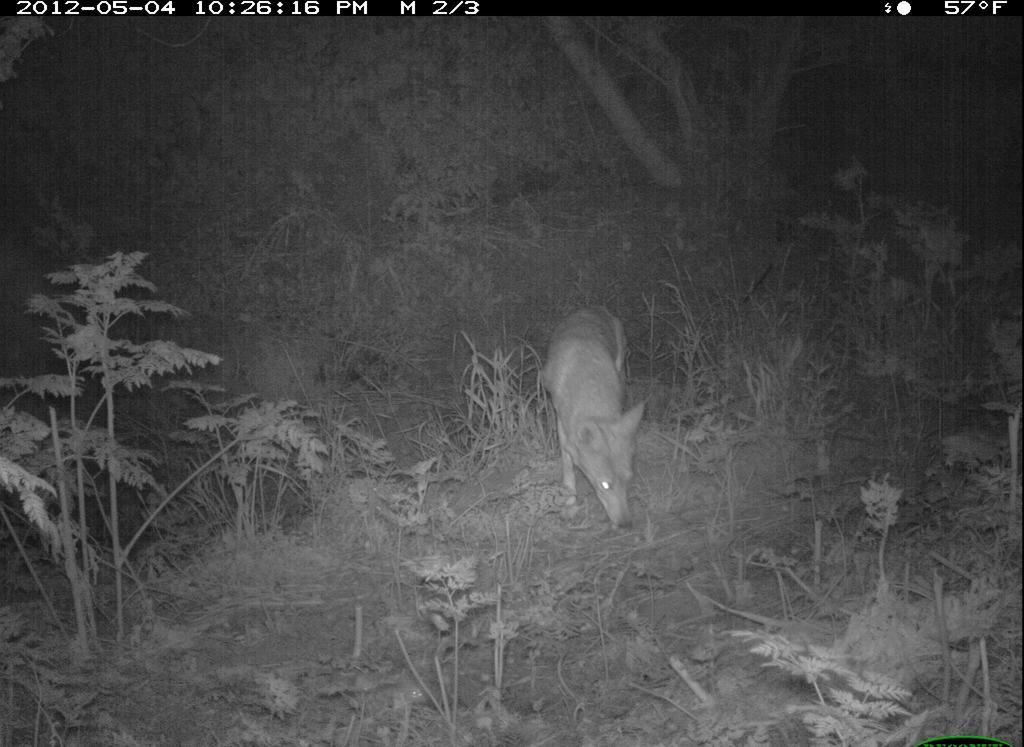coyote: (529, 297, 657, 539)
